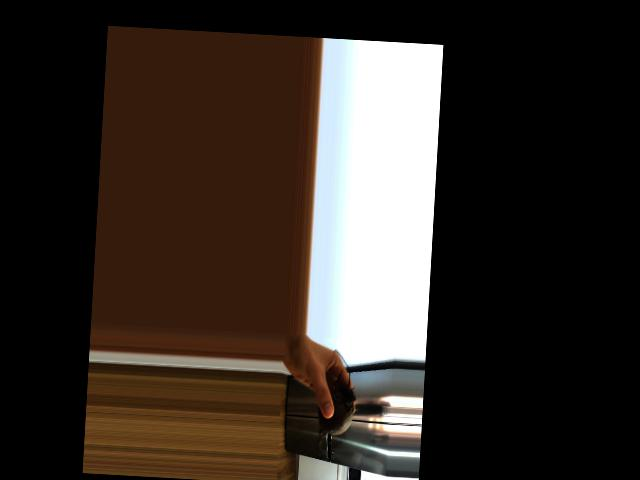beet: (316, 349, 358, 444)
